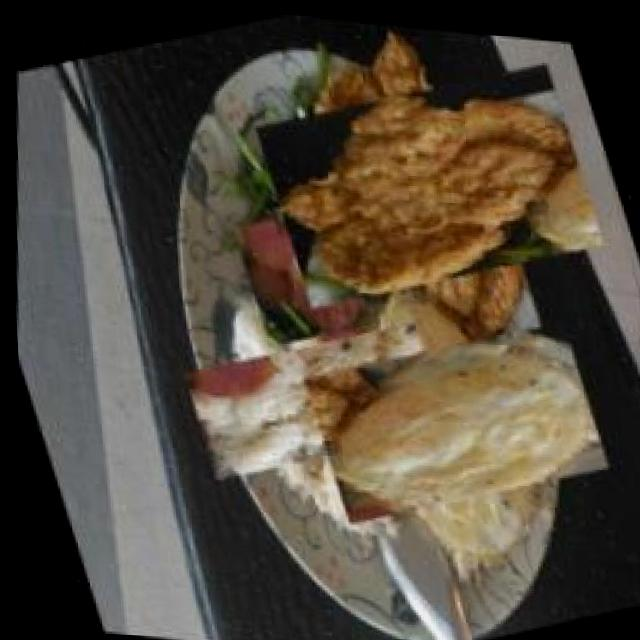chinese_sausage: (222, 191, 377, 355)
fried_chicken: (258, 14, 596, 352)
fried_eggs: (306, 272, 597, 563)
rice: (189, 275, 433, 520)
water_spinach: (233, 89, 352, 242)
